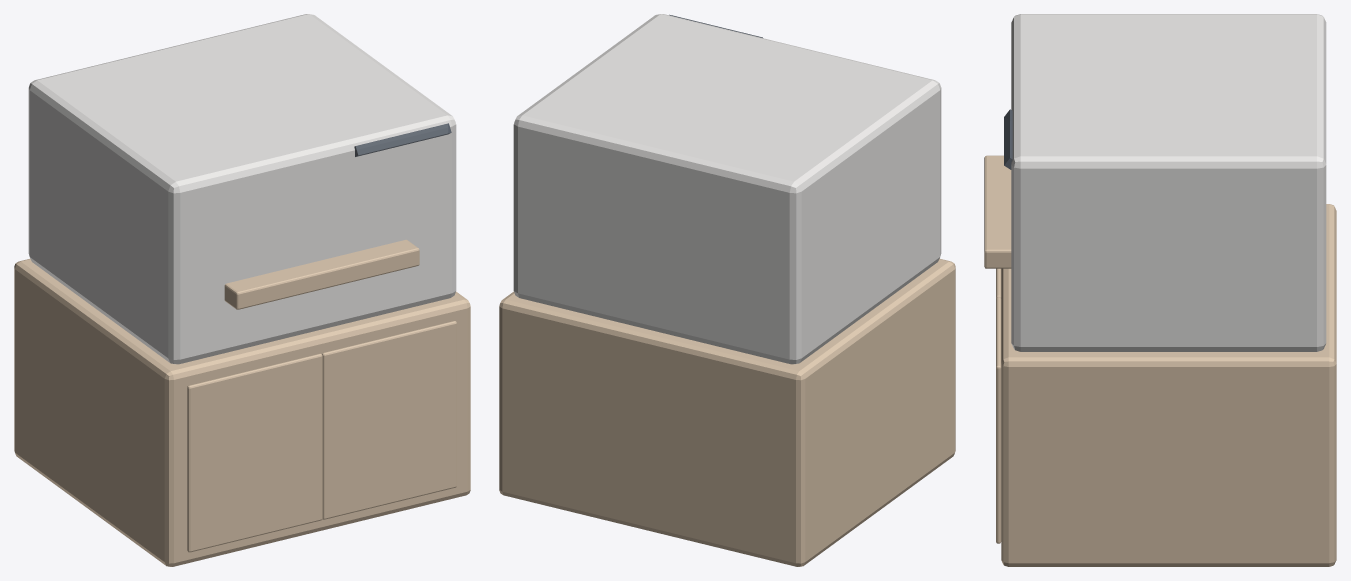
Rendered from print___utility_office_asset_library_15.glb.
3 renders of one model, left to right at view 1: azimuth 30°, elevation 25°; view 2: azimuth 150°, elevation 25°; view 3: azimuth 270°, elevation 25°, orthographic. The views are drawn at different scales.
Visible parts, largest first — view 1: Cube; view 2: Cube; view 3: Cube.
Part boxes in pixels (x1,y1,x2,y2): Cube: (14,14,470,566); Cube: (499,14,955,566); Cube: (984,14,1336,566).
Size of the model in its own units: 0.72 by 0.8526 by 0.672.
